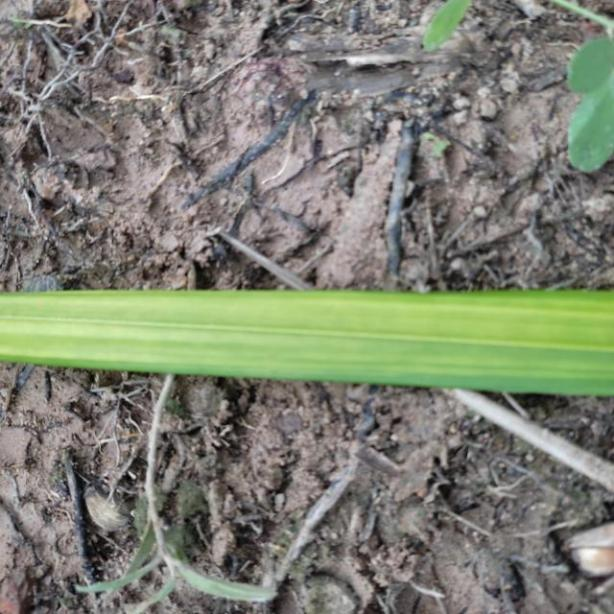nitrogen: (0, 286, 614, 395)
